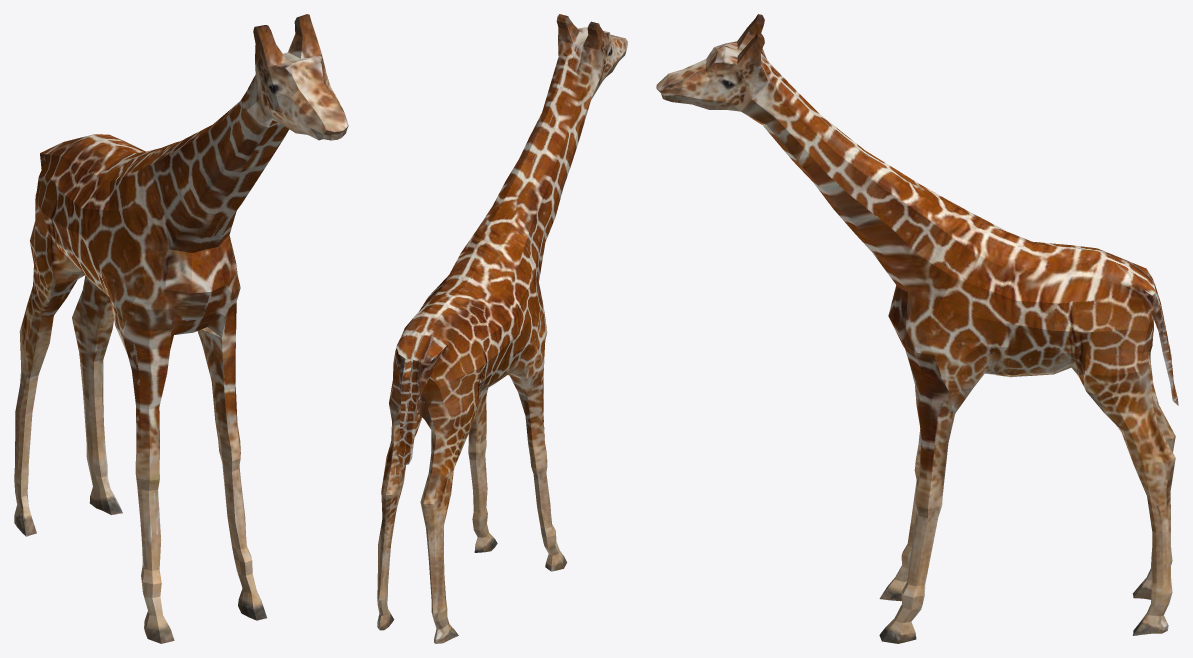
The model's file is giraffe.fbx.
The picture shows the model from 3 angles, left to right: view 1: azimuth 30°, elevation 25°; view 2: azimuth 150°, elevation 25°; view 3: azimuth 270°, elevation 25°; orthographic projection. The views are drawn at different scales.
Parts seen in each view (by area): view 1: Plane; view 2: Plane; view 3: Plane.
Boxes of the visible parts, x1,y1,x2,y2 form: Plane: (14, 14, 348, 643); Plane: (377, 14, 627, 643); Plane: (656, 14, 1178, 643).
Bounding box in the file's own units: 159 × 857 × 684.
1 material, 1 textured.
